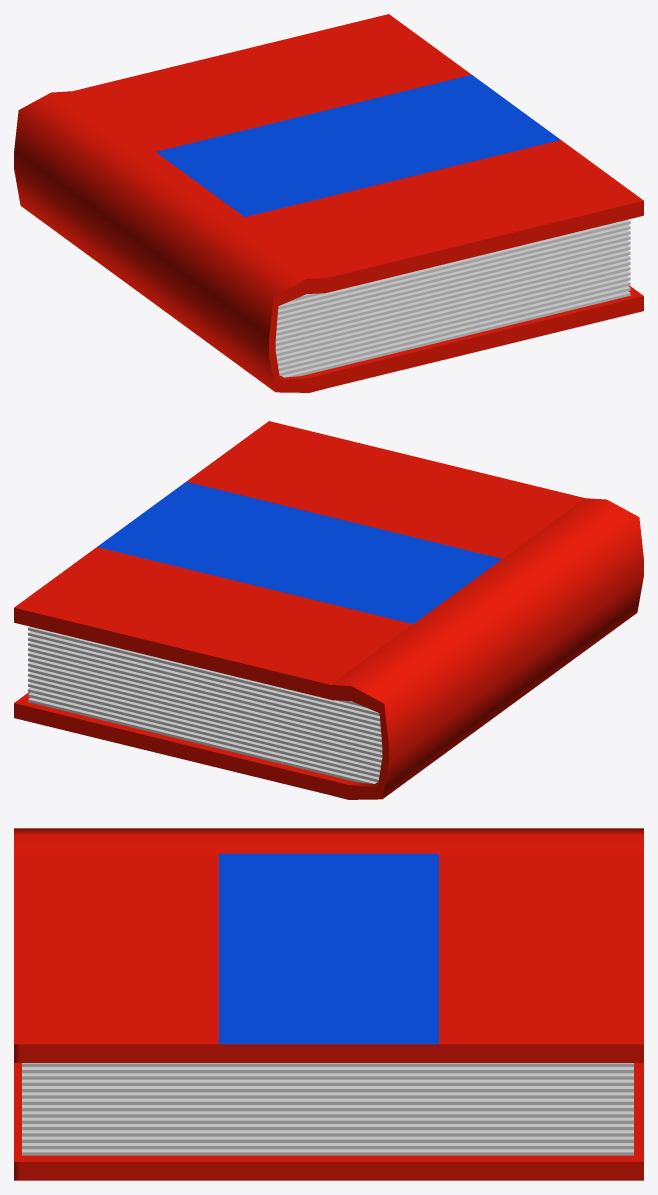
File: book.glb
3 views of the same model, one above another, from view 1: azimuth 30°, elevation 25°; view 2: azimuth 150°, elevation 25°; view 3: azimuth 270°, elevation 25° (orthographic). The views are drawn at different scales.
Visible parts, largest first — view 1: book close_paper.016; view 2: book close_paper.016; view 3: book close_paper.016.
Part boxes in pixels (box(x1,y1,x2,y2)): book close_paper.016: box(14, 14, 643, 392); book close_paper.016: box(14, 421, 643, 799); book close_paper.016: box(14, 828, 643, 1180).
Size of the model in its own units: 0.3693 by 0.1078 by 0.435.
